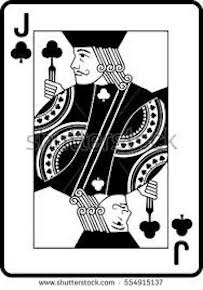JackOfClubs: (1, 1, 203, 277)
